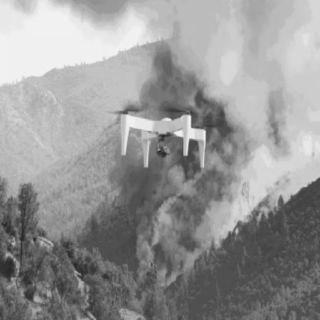Fire: (146, 181, 182, 273)
